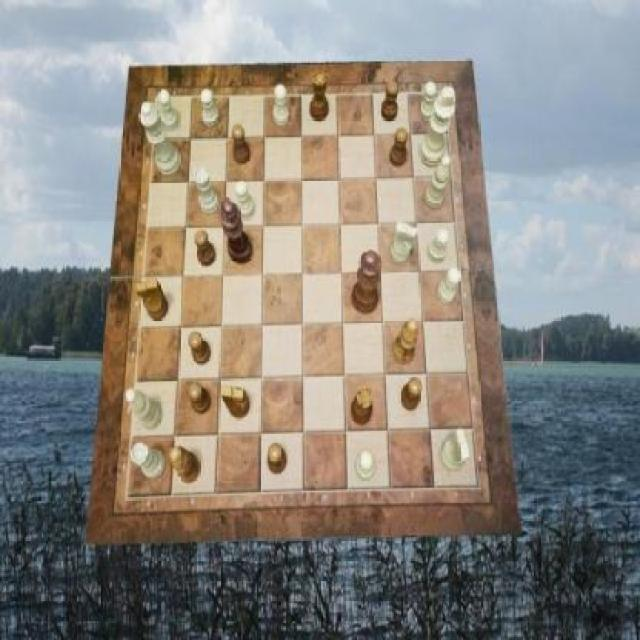bishop: (169, 446, 199, 484), (394, 318, 418, 364)
black-bishop: (220, 197, 254, 263)
black-king: (136, 278, 168, 321), (220, 384, 250, 418)
black-knight: (232, 124, 252, 164), (196, 230, 217, 266), (400, 377, 422, 411), (188, 330, 210, 364), (188, 381, 210, 414), (391, 128, 408, 168), (382, 83, 399, 123), (268, 443, 288, 474)
black-pawn: (351, 250, 382, 314)
black-queen: (310, 70, 328, 121), (351, 386, 373, 425)
black-rook: (126, 388, 162, 429), (424, 154, 450, 208)
white-bishop: (420, 86, 456, 168)
white-king: (440, 428, 470, 470), (391, 221, 418, 264)
white-knight: (158, 89, 180, 131), (437, 268, 460, 304), (426, 229, 449, 263), (236, 180, 256, 218), (202, 89, 220, 128), (419, 83, 436, 123), (272, 85, 288, 127), (356, 451, 374, 480)
white-pawn: (138, 101, 181, 176)
white-queen: (130, 442, 164, 479), (194, 168, 218, 215)
